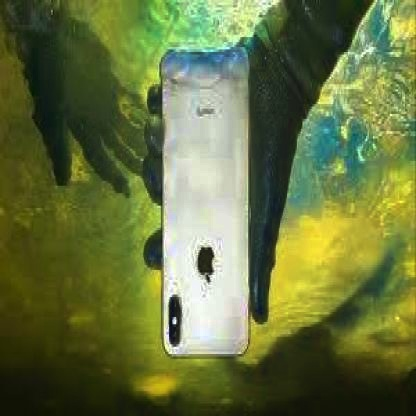cellphone: (159, 52, 251, 359)
